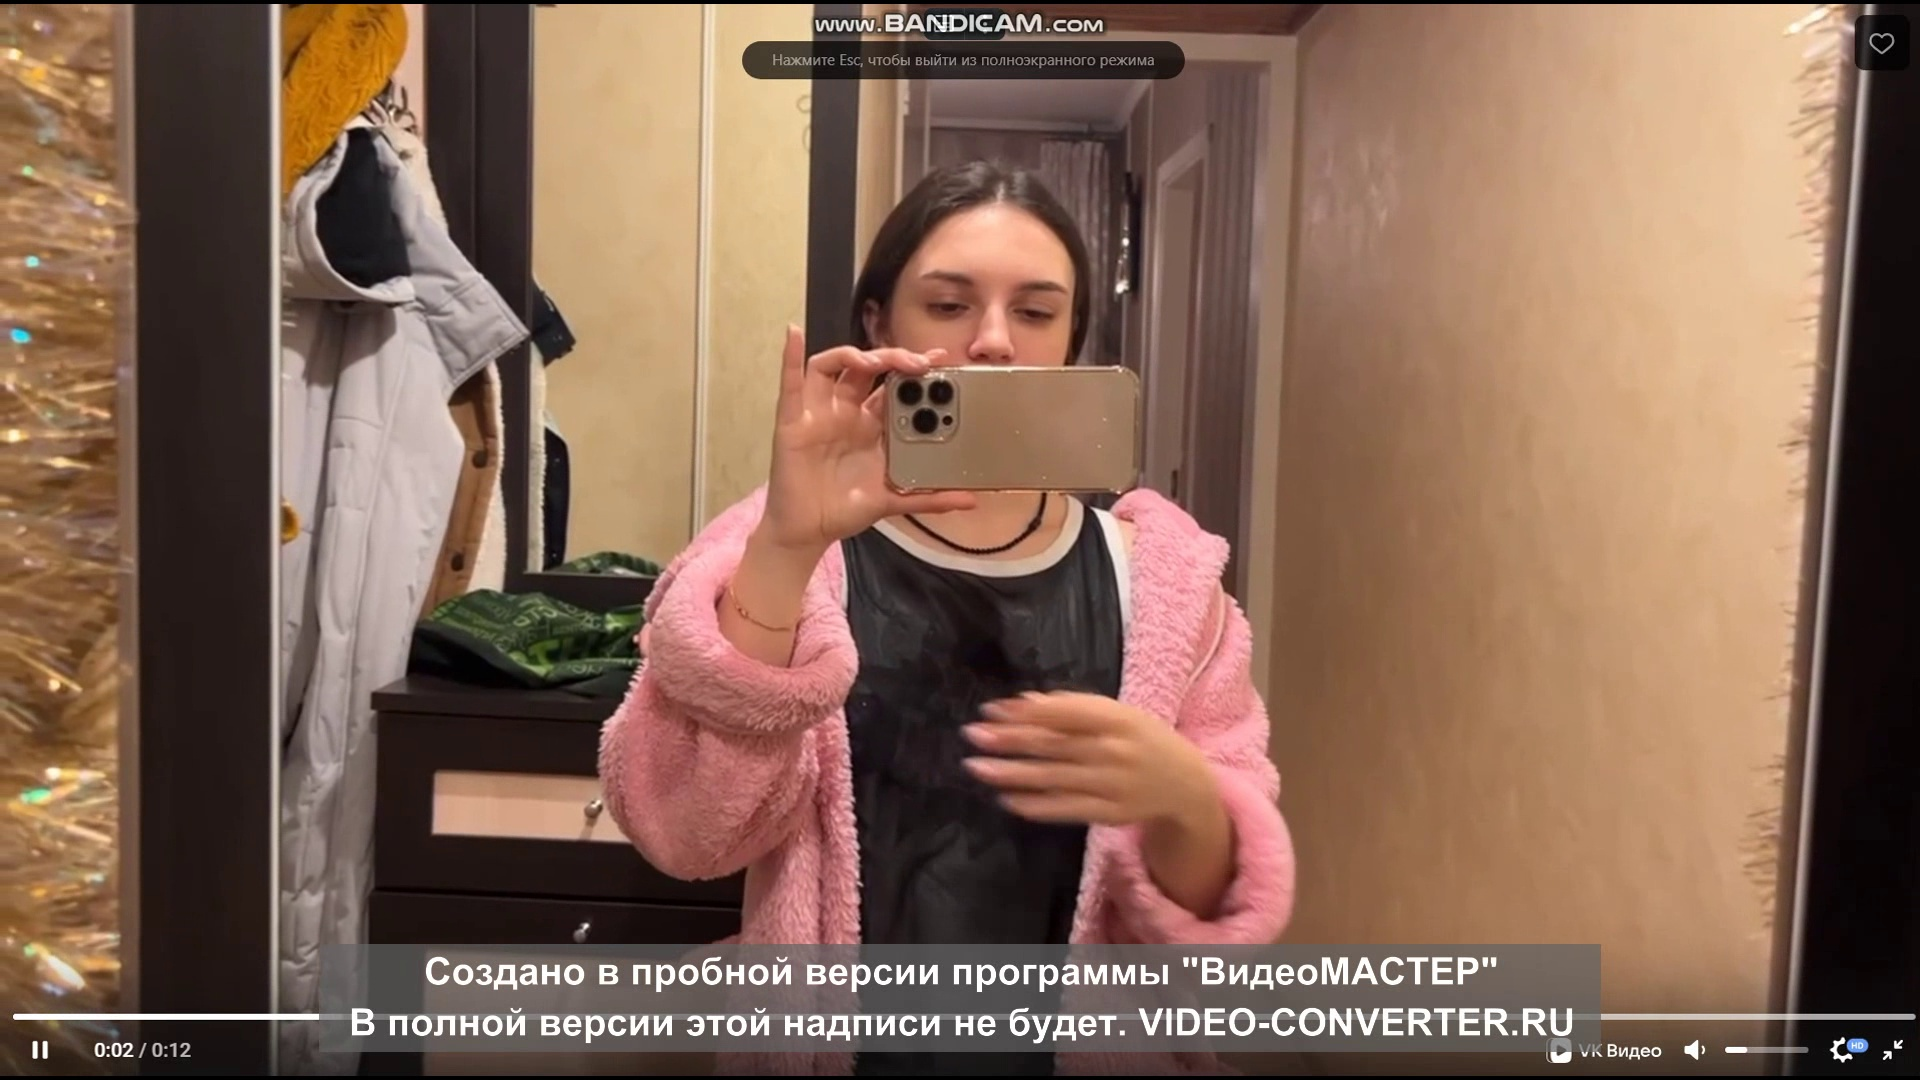Кисть: (959, 688, 1192, 836)
